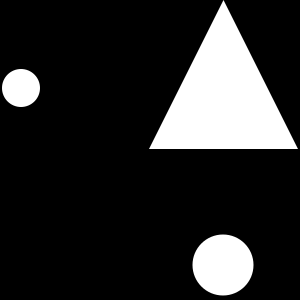rectangle: (192, 234, 254, 296), (2, 69, 40, 107)
triangle: (149, 0, 298, 149)
